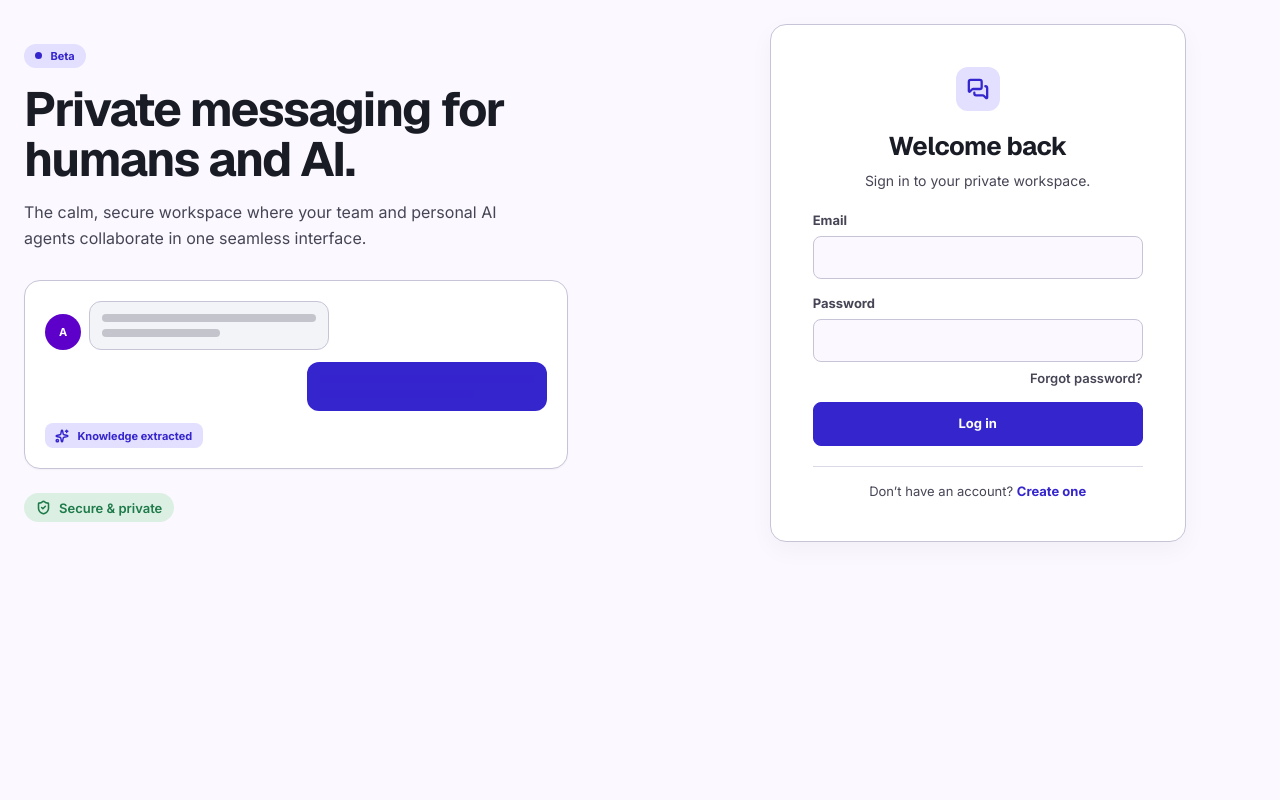
Scenario: authentication pages › shows generic credential feedback and clears the password after login failure
The image size is (1280, 800).
Type "user@example.com" into the field labelled "Email".
click(978, 258); type("user@example.com")  # box [813,236,1143,279]
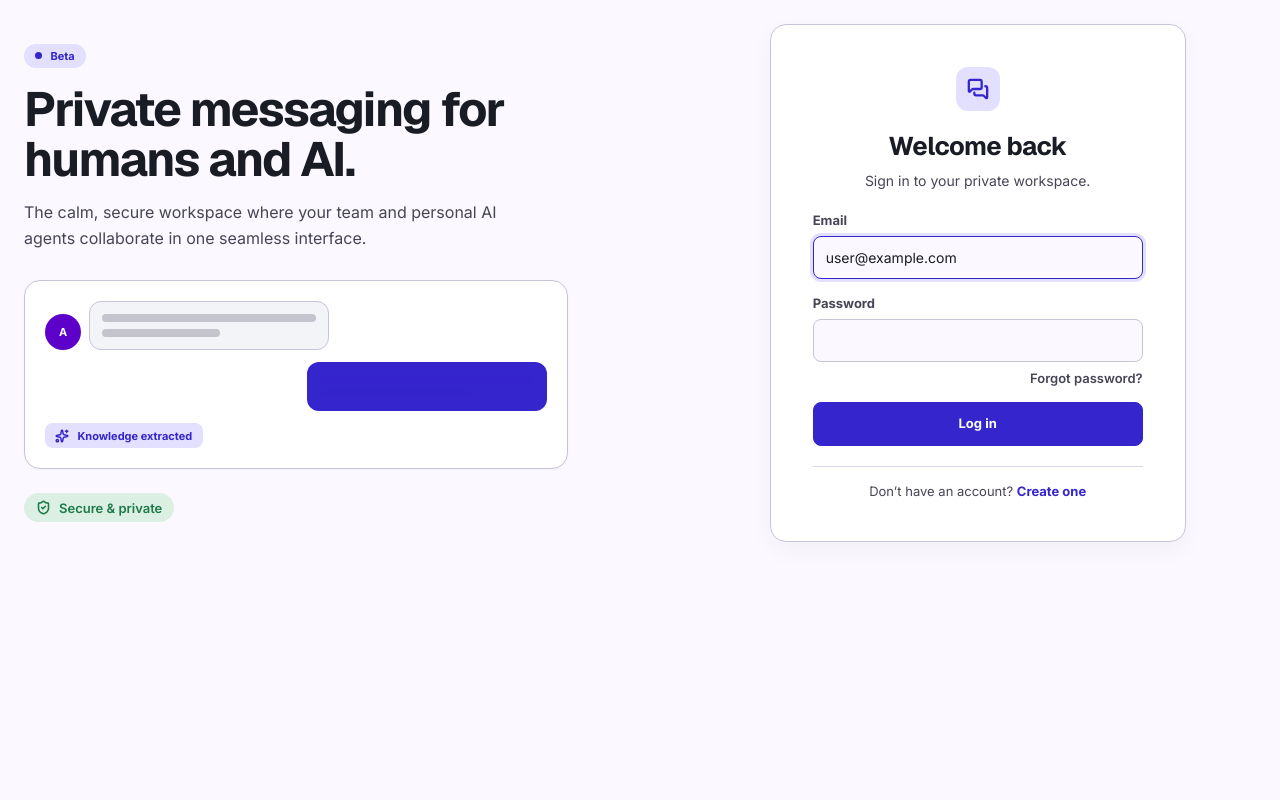
Type "wrong-password" into the password field labelled "Password".
click(978, 341); type("wrong-password")  # box [813,319,1143,362]
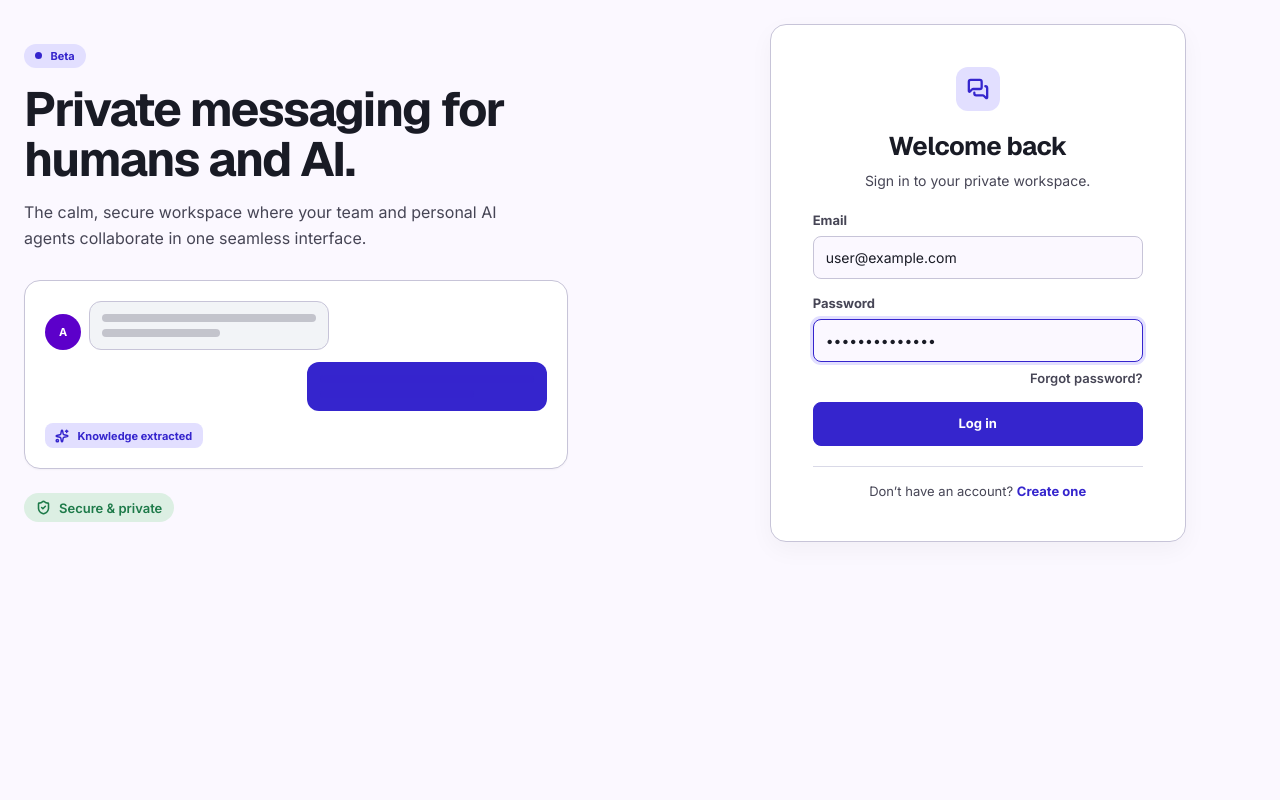
Click the button "Log in".
click(978, 424)  # box [813,402,1143,446]
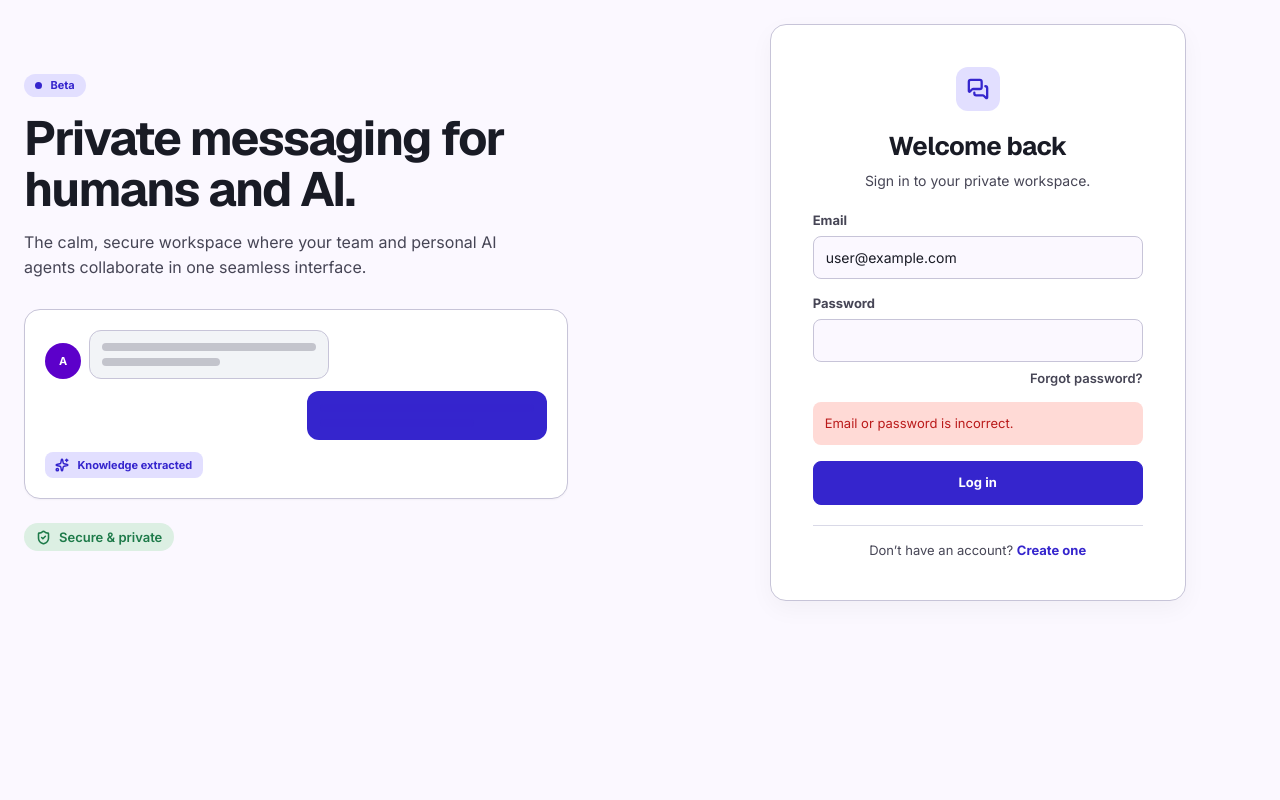
Now the text "Email or password is incorrect." is shown, box [813,402,1143,445]
Now the password field labelled "Password" is empty, box [813,319,1143,362]
